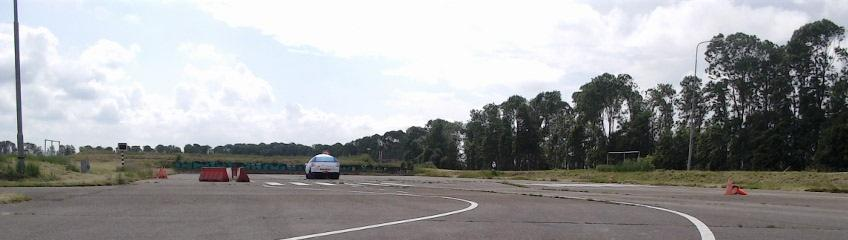Car: (305, 154, 339, 180)
